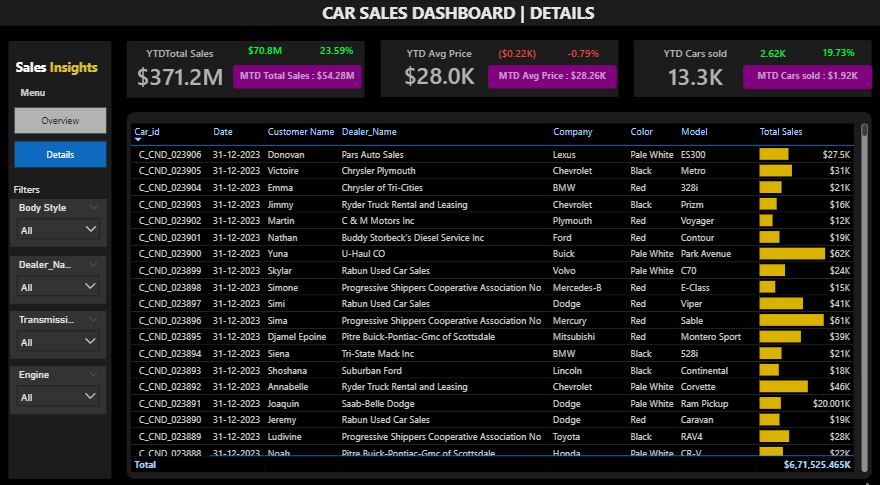

What the dashboard file says about the page in this screenshot:
{"tool":"powerbi","page":{"name":"Details ","canvas":[1280,720],"ordinal":1},"visuals":[{"type":"card","title":"YTDTotal Sales","fields":{"Values":["car_data.YTD Total Sales"]},"box":[169.2,69.4,190.8,66.5],"z":0},{"type":"card","fields":{"Values":["car_data.Sales difference"]},"box":[341.8,60.8,92.4,32.9],"z":1000},{"type":"card","fields":{"Values":["car_data.YoY Sales Growth"]},"box":[434.2,60.8,115.2,32.9],"z":2000},{"type":"card","fields":{"Values":["car_data.MTD KPI"]},"box":[341.8,97.5,186.1,34.2],"z":3000},{"type":"card","title":"YTD Avg Price","fields":{"Values":["car_data.YTD Avg Price"]},"box":[555.7,69.6,168.4,65.8],"z":4000},{"type":"card","fields":{"Values":["car_data.Avg Price Diff"]},"box":[703.8,60.8,96.2,41.8],"z":5000},{"type":"card","fields":{"Values":["car_data.YoY Avg Price Growth"]},"box":[800,60.8,96.2,41.8],"z":6000},{"type":"card","fields":{"Values":["car_data.MTD Avg Price KPI"]},"box":[710.1,97.5,186.1,34.2],"z":7000},{"type":"card","title":"YTD Cars sold","fields":{"Values":["car_data.YTD Car Sales"]},"box":[925.3,69.4,169.2,66.5],"z":8000},{"type":"card","fields":{"Values":["car_data.Cars sold diff"]},"box":[1074.2,60.7,95.4,41.9],"z":9000},{"type":"card","fields":{"Values":["car_data.YoY Car Sold Growth"]},"box":[1169.6,59.3,95.4,41.9],"z":10000},{"type":"card","fields":{"Values":["car_data.MTD Car Sold KPI"]},"box":[1078.6,96.9,186.5,34.7],"z":11000},{"type":"slicer","fields":{"Values":["car_data.Body Style"]},"box":[19.2,290.4,140.4,69.2],"z":12000},{"type":"textbox","box":[439.5,0,461.2,49.2],"z":13000},{"type":"slicer","fields":{"Values":["car_data.Dealer_Name"]},"box":[19.2,373.1,139.4,69.2],"z":14000},{"type":"slicer","fields":{"Values":["car_data.Transmission"]},"box":[19.2,452.9,139.4,69.2],"z":15000},{"type":"slicer","fields":{"Values":["car_data.Engine"]},"box":[19.2,531.7,139.4,70.2],"z":16000},{"type":"textbox","box":[18.8,260.2,59.3,30.4],"z":17000},{"type":"tableEx","fields":{"Values":["car_data.Car_id","car_data.Date","car_data.Customer Name","car_data.Dealer_Name","car_data.Company","car_data.Color","car_data.Model","car_data.Price ($)"]},"box":[188.7,176.3,1076.3,514.4],"z":18000},{"type":"textbox","box":[16.5,82.4,145.9,41.2],"z":19000},{"type":"textbox","box":[28.2,123.5,70.6,27.1],"z":20000},{"type":"pageNavigator","box":[24.6,157.6,134.5,88.2],"z":20001}]}

Visuals, with their boxes on the page's 1280x720 design canvas (x1, y1, x2, y2). These are canvas units, not pixel positions in the 880x485 screenshot, which may show the page scaled, cropped or inside an application window:
"YTDTotal Sales" card: locate(169, 69, 360, 136)
card - car_data.Sales difference: locate(342, 61, 434, 94)
card - car_data.YoY Sales Growth: locate(434, 61, 549, 94)
card - car_data.MTD KPI: locate(342, 98, 528, 132)
"YTD Avg Price" card: locate(556, 70, 724, 135)
card - car_data.Avg Price Diff: locate(704, 61, 800, 103)
card - car_data.YoY Avg Price Growth: locate(800, 61, 896, 103)
card - car_data.MTD Avg Price KPI: locate(710, 98, 896, 132)
"YTD Cars sold" card: locate(925, 69, 1094, 136)
card - car_data.Cars sold diff: locate(1074, 61, 1170, 103)
card - car_data.YoY Car Sold Growth: locate(1170, 59, 1265, 101)
card - car_data.MTD Car Sold KPI: locate(1079, 97, 1265, 132)
slicer - car_data.Body Style: locate(19, 290, 160, 360)
textbox: locate(440, 0, 901, 49)
slicer - car_data.Dealer_Name: locate(19, 373, 159, 442)
slicer - car_data.Transmission: locate(19, 453, 159, 522)
slicer - car_data.Engine: locate(19, 532, 159, 602)
textbox: locate(19, 260, 78, 291)
tableEx - car_data.Car_id x car_data.Date: locate(189, 176, 1265, 691)
textbox: locate(16, 82, 162, 124)
textbox: locate(28, 124, 99, 151)
pageNavigator: locate(25, 158, 159, 246)
